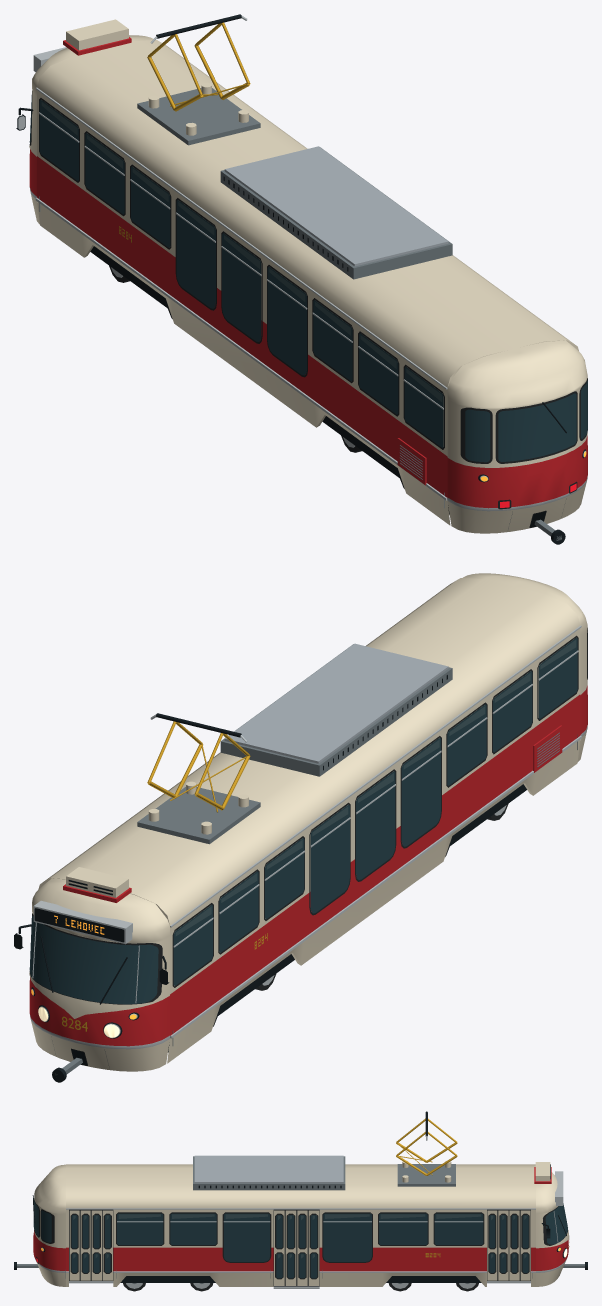
File: t3rplf-viewer.glb
3 views of the same model, one above another, from view 1: azimuth 30°, elevation 25°; view 2: azimuth 150°, elevation 25°; view 3: azimuth 270°, elevation 25° (orthographic). The views are drawn at different scales.
Visible parts, largest first — view 1: t3rplf; view 2: t3rplf; view 3: t3rplf, t3rplf-door-1-0.120-0, t3rplf-door-1-0.120-2, t3rplf-door-1-0.120-1, t3rplf-door-1-0.120-3, t3rplf-door-1--5.870-1, t3rplf-door-1--5.870-2, t3rplf-door-1-5.920-0, t3rplf-door-1-5.920-1, t3rplf-door-1-5.920-2, t3rplf-door-1-5.920-3, t3rplf-door-1--5.870-0 (+1 smaller).
Boxes of the visible parts, left/top/right/bottom form: t3rplf: left=16, top=14, right=587, bottom=544; t3rplf: left=14, top=573, right=587, bottom=1082; t3rplf: left=14, top=1111, right=587, bottom=1291; t3rplf-door-1-0.120-0: left=308, top=1210, right=319, bottom=1285; t3rplf-door-1-0.120-2: left=285, top=1210, right=296, bottom=1285; t3rplf-door-1-0.120-1: left=297, top=1210, right=307, bottom=1285; t3rplf-door-1-0.120-3: left=274, top=1210, right=284, bottom=1285; t3rplf-door-1--5.870-1: left=509, top=1210, right=519, bottom=1280; t3rplf-door-1--5.870-2: left=498, top=1210, right=508, bottom=1280; t3rplf-door-1-5.920-0: left=102, top=1210, right=112, bottom=1280; t3rplf-door-1-5.920-1: left=91, top=1210, right=101, bottom=1280; t3rplf-door-1-5.920-2: left=80, top=1210, right=90, bottom=1280; t3rplf-door-1-5.920-3: left=69, top=1210, right=79, bottom=1280; t3rplf-door-1--5.870-0: left=520, top=1210, right=530, bottom=1280.
Bounding box in the file's own units: 2.88 × 4.85 × 16.2.
